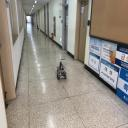cart: (56, 66, 67, 80)
